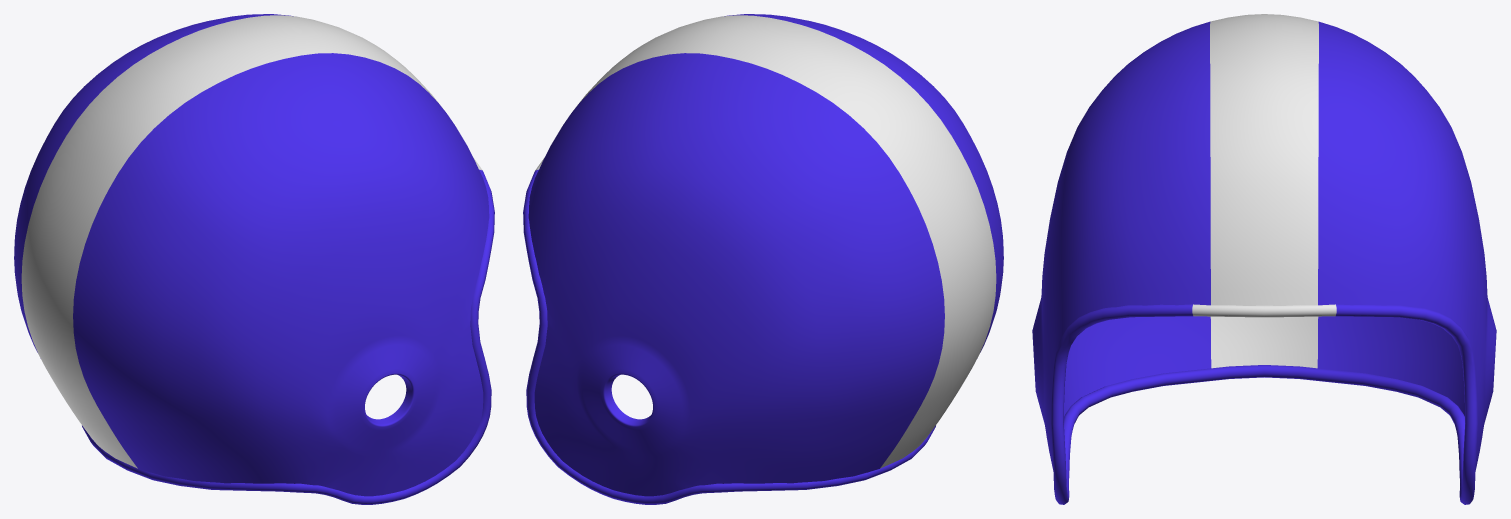
Rendered from Casco Azul .fbx.
3 renders of one model, left to right at view 1: azimuth 30°, elevation 25°; view 2: azimuth 150°, elevation 25°; view 3: azimuth 270°, elevation 25°, orthographic. The views are drawn at different scales.
Parts seen in each view (by area): view 1: helmet.001; view 2: helmet.001; view 3: helmet.001.
Boxes of the visible parts, x1=… form: helmet.001: x1=14, y1=14, x2=494, y2=504; helmet.001: x1=523, y1=14, x2=1003, y2=504; helmet.001: x1=1032, y1=14, x2=1496, y2=504.
Bounding box in the file's own units: 62225 × 58062 × 57303.
